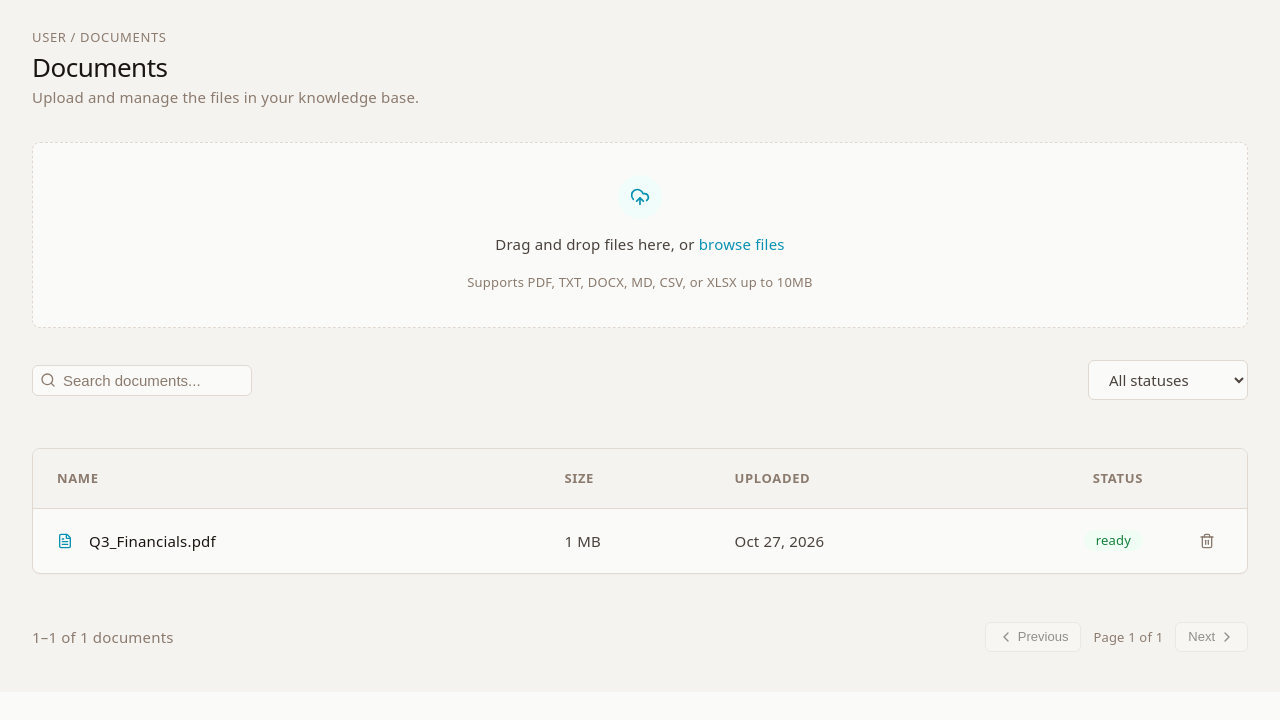
it: DocumentsPage User Flows › deleting a document used by conversations › deletes nothing when the dialog is cancelled
Check: the link "Q3_Financials.pdf" is shown, box left=89, top=528, right=216, bottom=554
Click the button titled "Delete document": (1207, 541) left=1191, top=525, right=1223, bottom=557
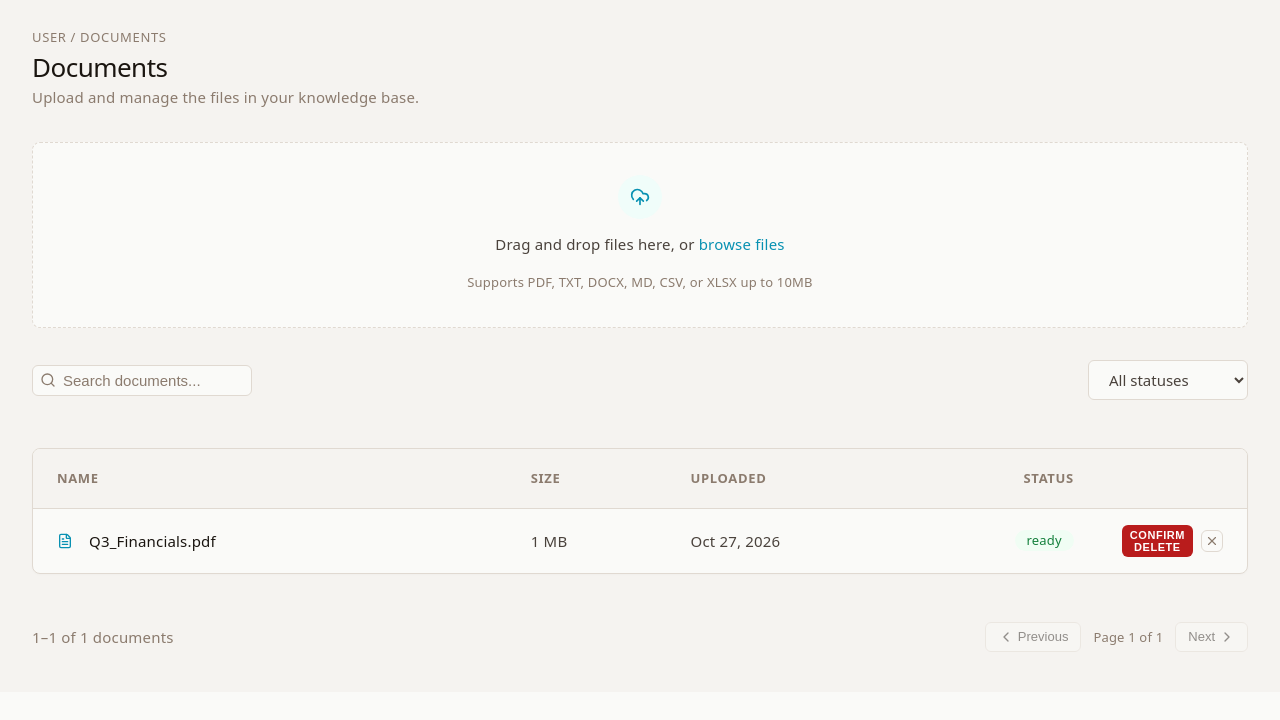
Click the button "Confirm Delete": (1157, 541) left=1122, top=525, right=1193, bottom=557
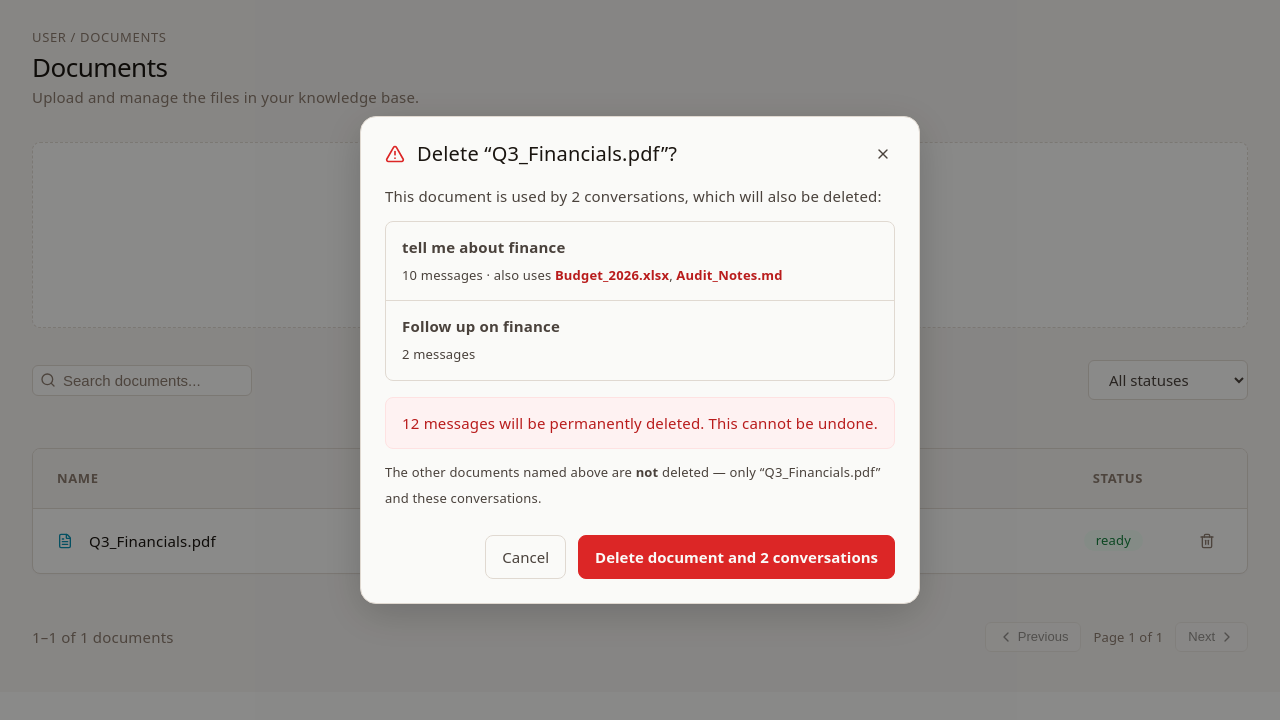
Click the button "Cancel": (526, 557) left=485, top=535, right=566, bottom=579
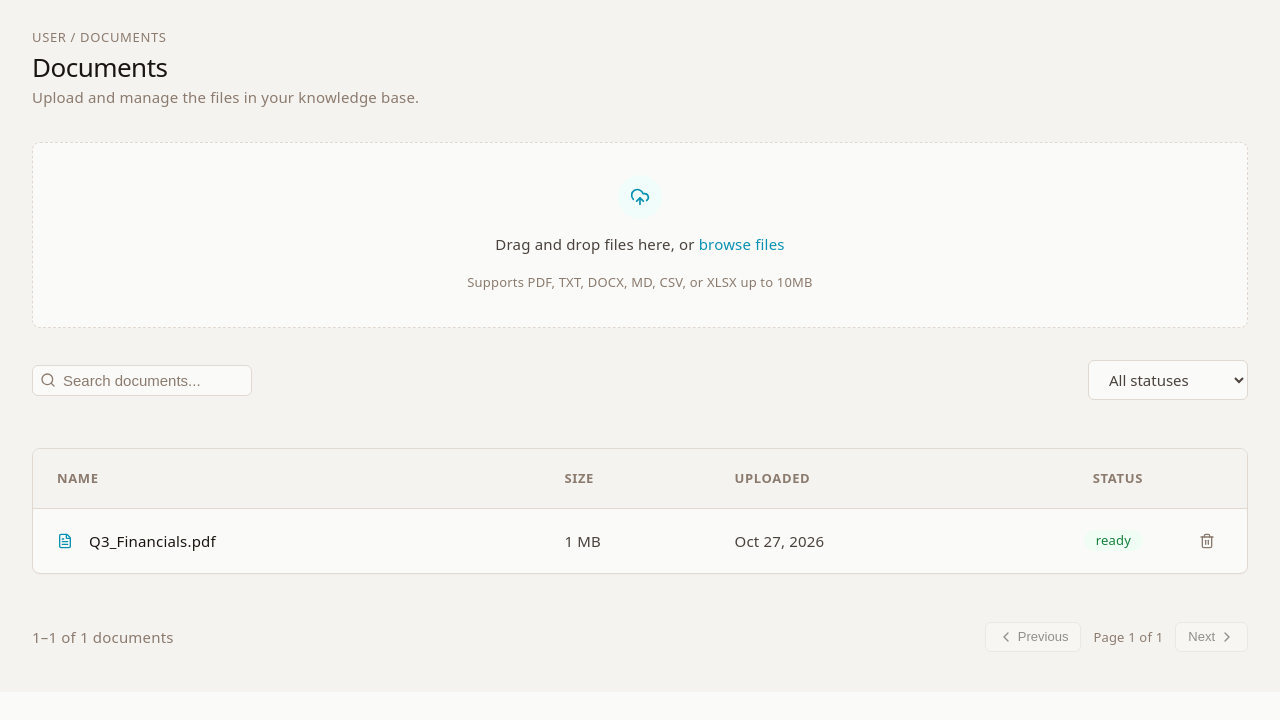
Check: the link "Q3_Financials.pdf" is shown, box left=89, top=528, right=216, bottom=554
Check: the dialog is gone
